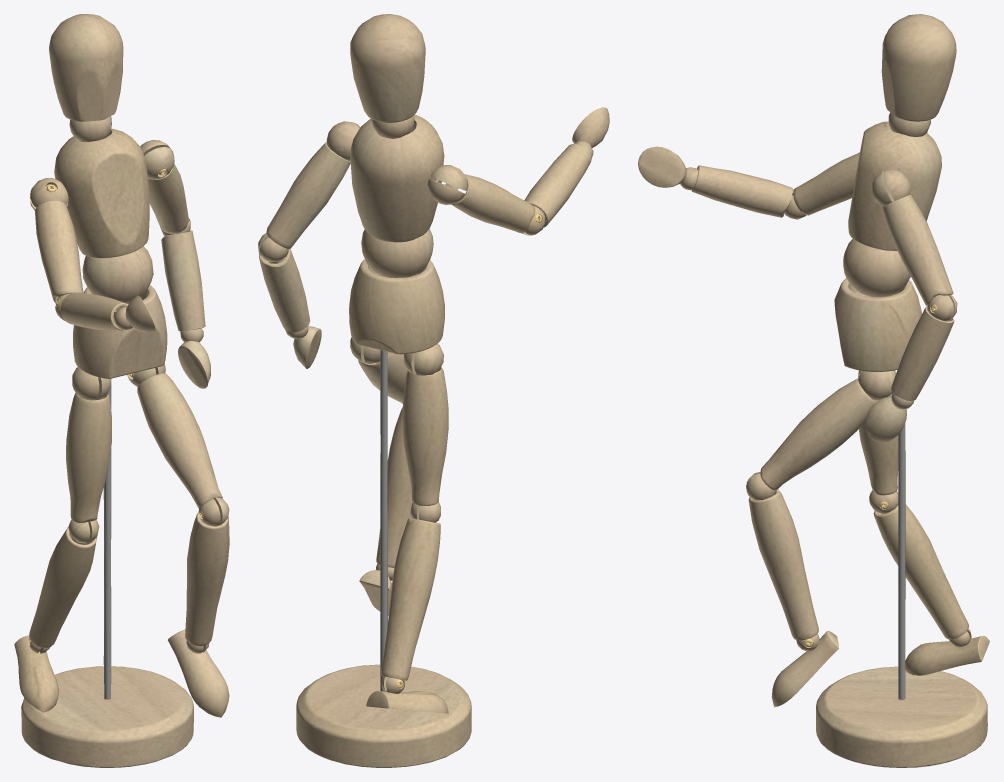
File: gestalta_ozdoba_40255462.glb
3 views of the same model, side by side, from view 1: azimuth 30°, elevation 25°; view 2: azimuth 150°, elevation 25°; view 3: azimuth 270°, elevation 25° (orthographic). The views are drawn at different scales.
Visible parts, largest first — view 1: gestalta_ozdoba_40255462; view 2: gestalta_ozdoba_40255462; view 3: gestalta_ozdoba_40255462.
Boxes of the visible parts, x1,y1,x2,y2 form: gestalta_ozdoba_40255462: [14, 14, 229, 767]; gestalta_ozdoba_40255462: [258, 14, 609, 767]; gestalta_ozdoba_40255462: [638, 14, 989, 767].
Size of the model in its own units: 0.1014 by 0.3331 by 0.1499.
Materials: 1 (1 with a texture image).
